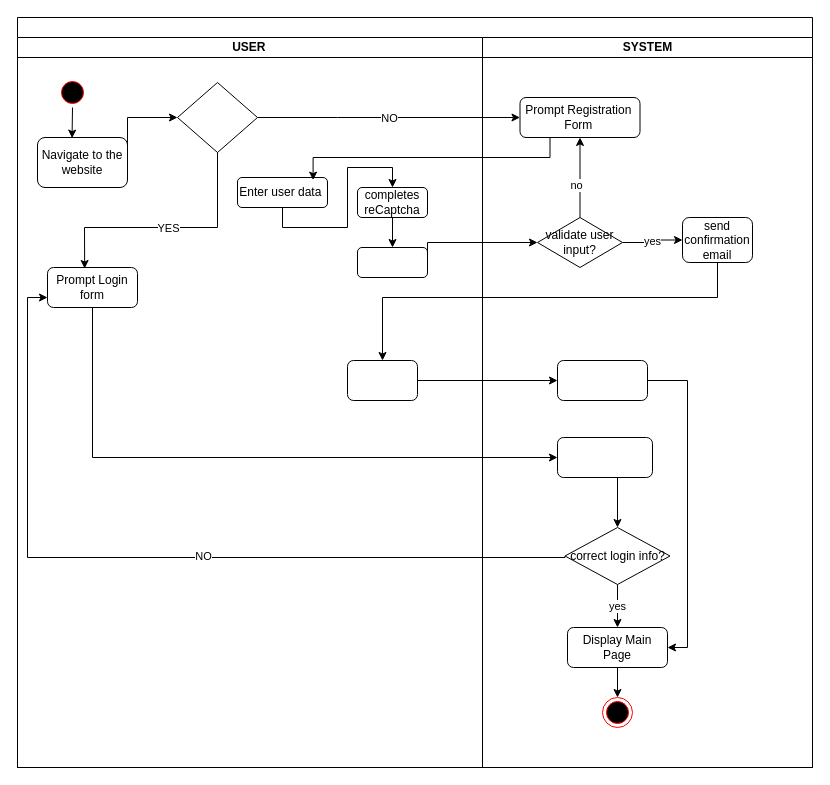
This 830x785 diagram has some shape labels left out. Here are the shapes that lost their labels. From the top down, the box of each, then its label:
(176, 82, 258, 152): Have an account?
(356, 246, 428, 278): register
(346, 360, 418, 400): confirm email
(556, 360, 648, 400): save user information
(556, 436, 652, 478): Validate input
